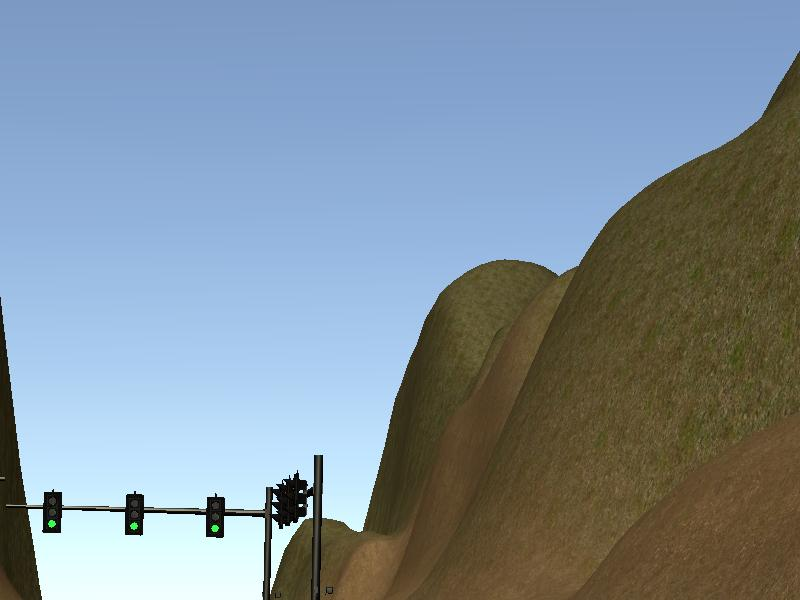Green: (44, 491, 61, 533), (206, 497, 223, 537), (127, 495, 142, 534)
